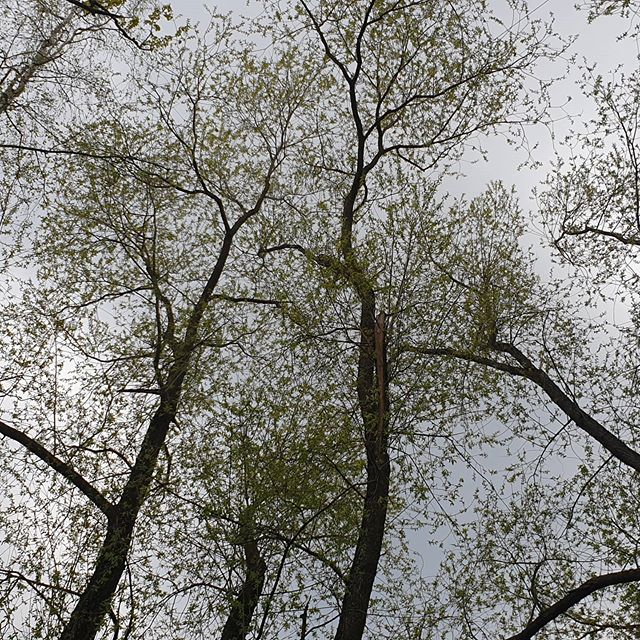vegetation: (1, 1, 629, 633)
